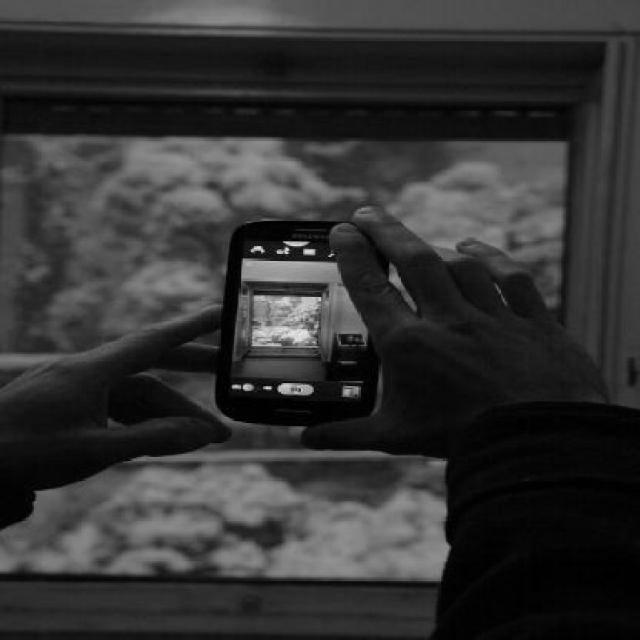fake: (214, 212, 388, 426)
